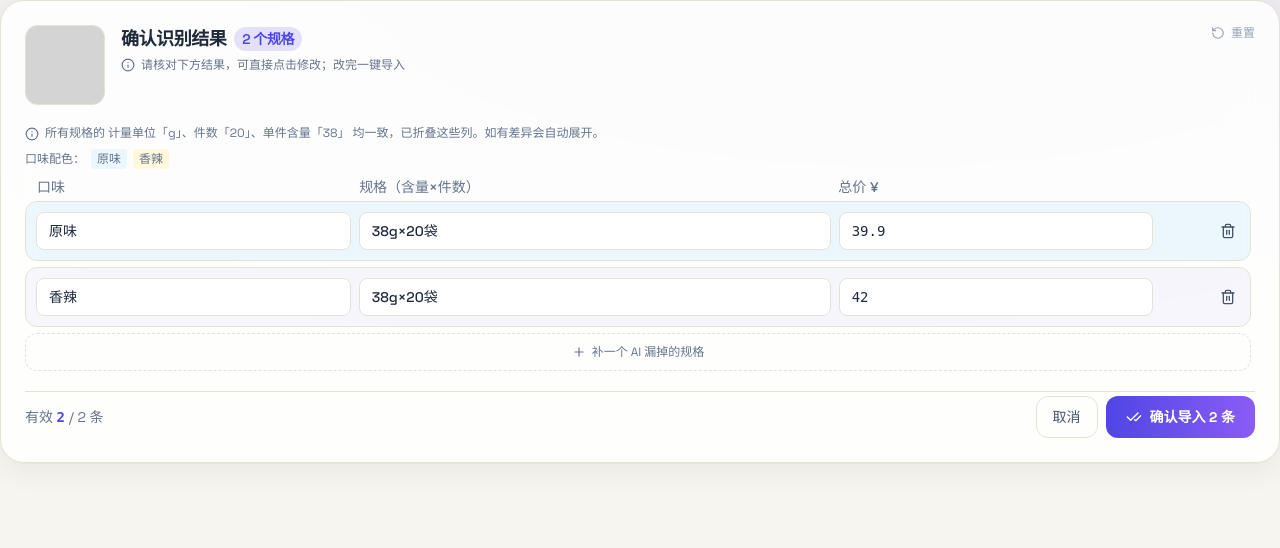
RecognizeReview 识别确认流 › 「补一个 AI 漏掉的规格」新增空行：总条数 +1，但空行不计入有效条数
The width and height of the screenshot is (1280, 548).
Click the button "补一个 AI 漏掉的规格" at [638, 352], box [25,333,1251,371]
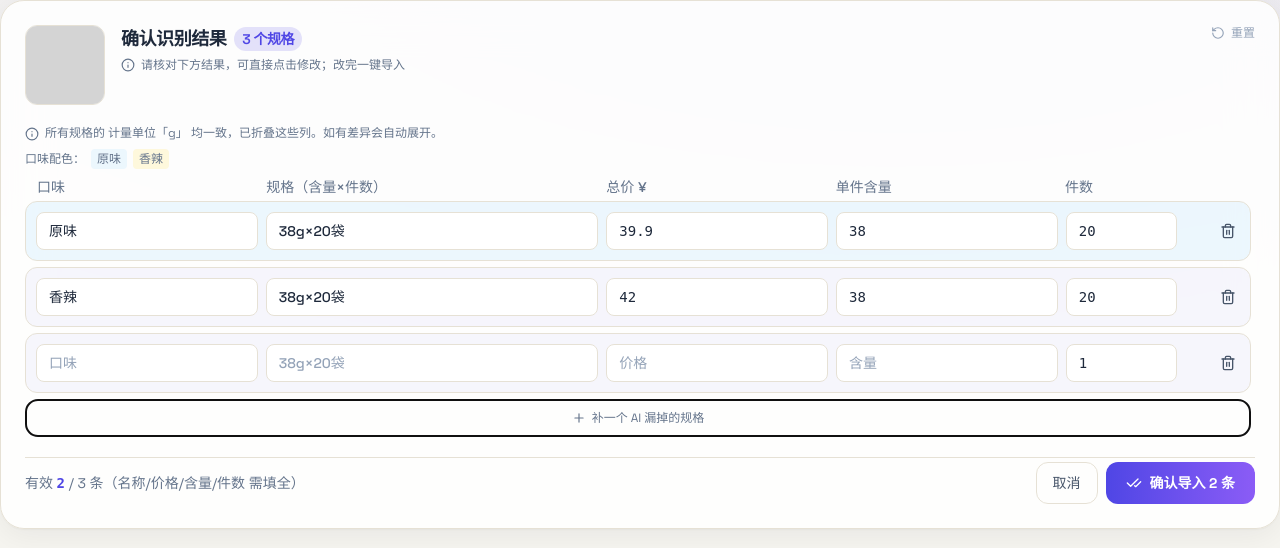
Expected: the button "确认导入 2 条" is enabled, [1106,462,1255,504]
Now the text "3 个规格" is shown, box [234,27,302,51]
Now the text "有效 2 / 3 条（名称/价格/含量/件数 需填全）" is shown, box [25,473,305,493]
